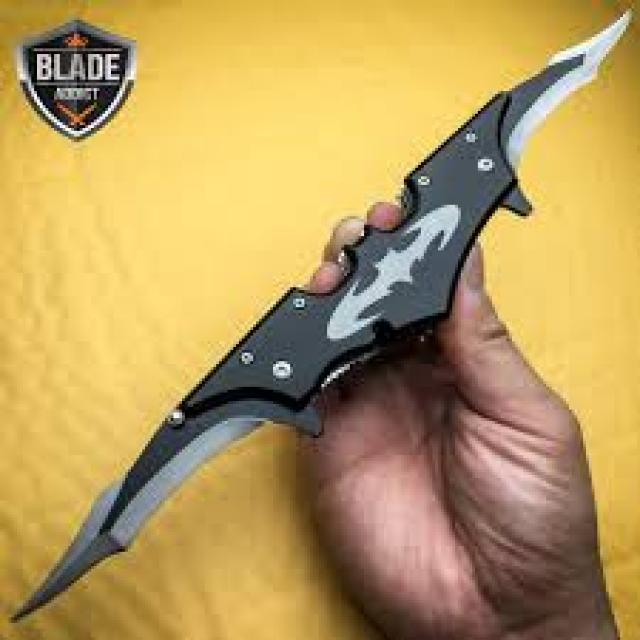knives: (6, 2, 637, 628)
